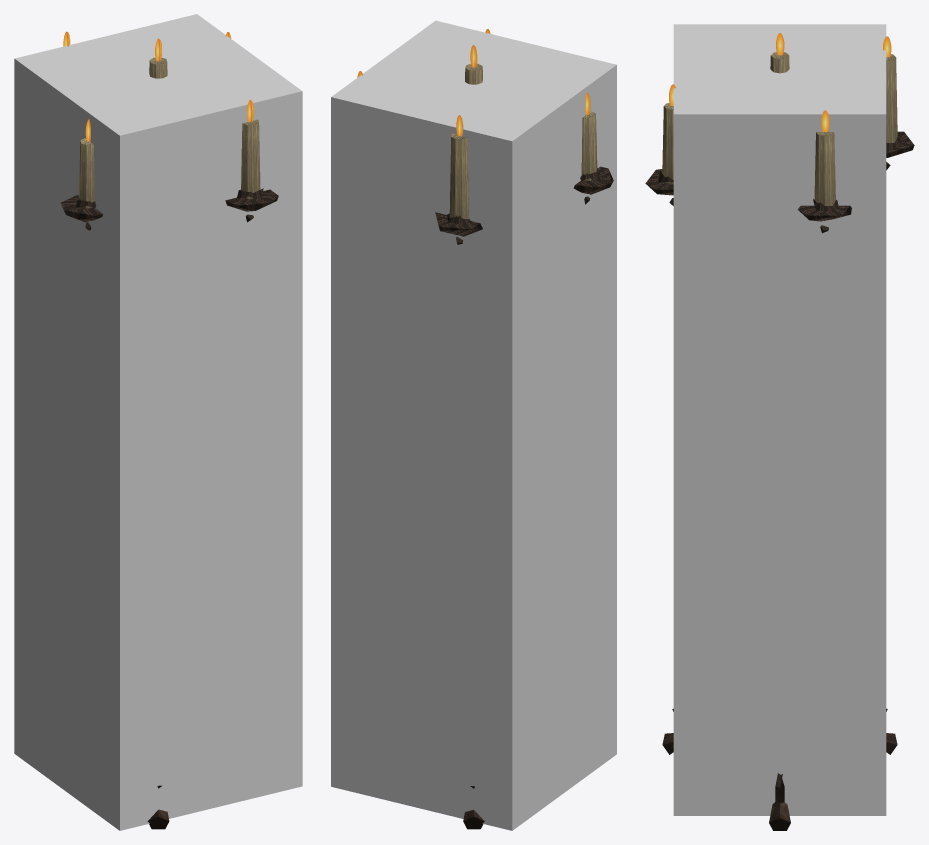
File: candelabra_tall_v1_lite.glb
The picture shows the model from 3 angles, left to right: view 1: azimuth 30°, elevation 25°; view 2: azimuth 150°, elevation 25°; view 3: azimuth 270°, elevation 25°; orthographic projection.
Visible parts, largest first — view 1: col_candelabra, candelabra; view 2: col_candelabra, candelabra; view 3: col_candelabra, candelabra.
Boxes of the visible parts, bbox=[...] form: col_candelabra: bbox=[14, 14, 302, 830]; candelabra: bbox=[60, 31, 278, 829]; col_candelabra: bbox=[331, 20, 616, 830]; candelabra: bbox=[357, 29, 613, 829]; col_candelabra: bbox=[673, 24, 886, 815]; candelabra: bbox=[645, 33, 914, 830].
Bounding box in the file's own units: 0.6947 × 2.16 × 0.6953.
Materials: 3 (3 with a texture image).
